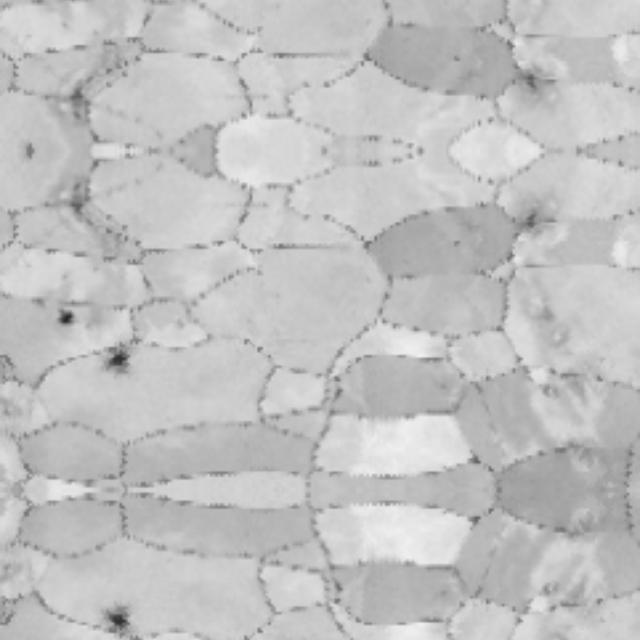good_void: (493, 197, 566, 250), (493, 50, 566, 103), (45, 173, 105, 229), (45, 71, 105, 127), (99, 339, 138, 377), (99, 603, 138, 640), (46, 299, 83, 335)
